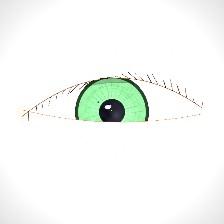hemorrhage_spot: (41, 93, 131, 165)
